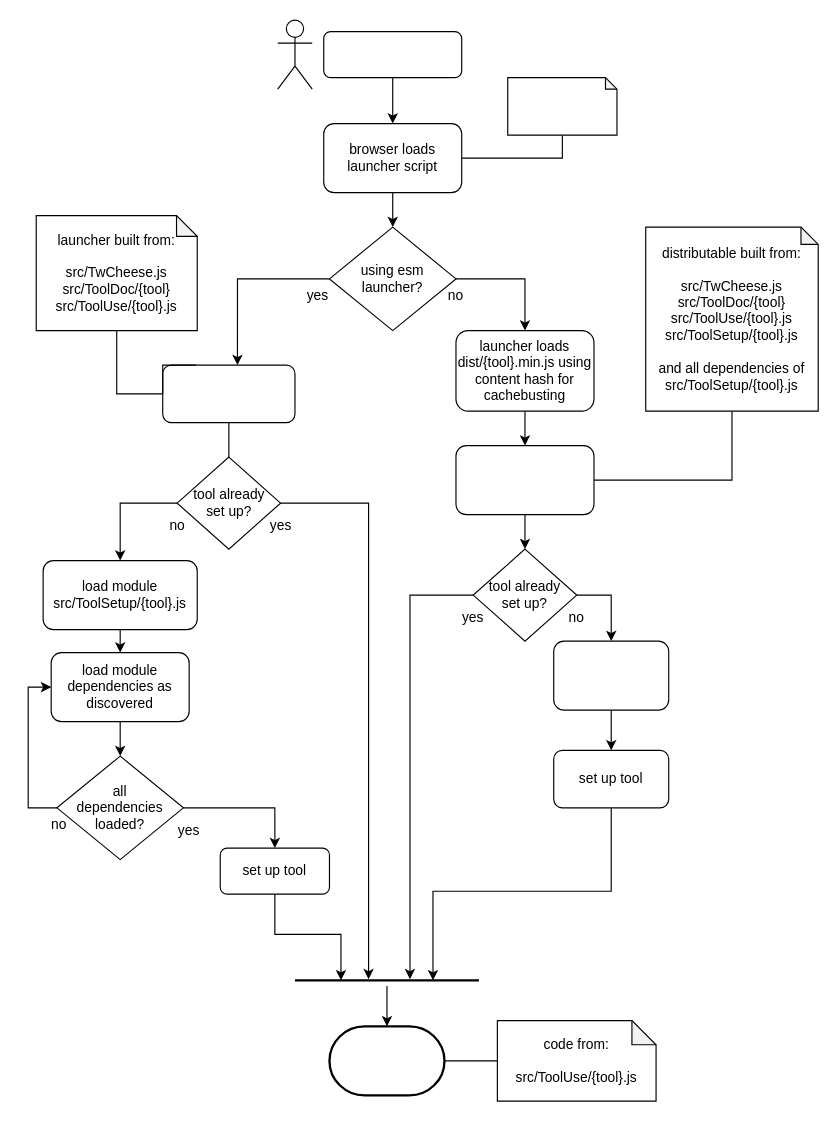
The diagram is 838 pixels wide and 1121 high, and some of its shapes have lost their labels. The centre of each missing label's shape, as x and y in pixels:
"begin execution of distributable" belongs at (524,479).
"begin execution of esm launcher" belongs at (228,393).
"cached for 5 minutes" belongs at (562,105).
"init tool dependencies" belongs at (611,675).
"player activates quickbar item" belongs at (392,54).
"run tool" belongs at (386,1060).
